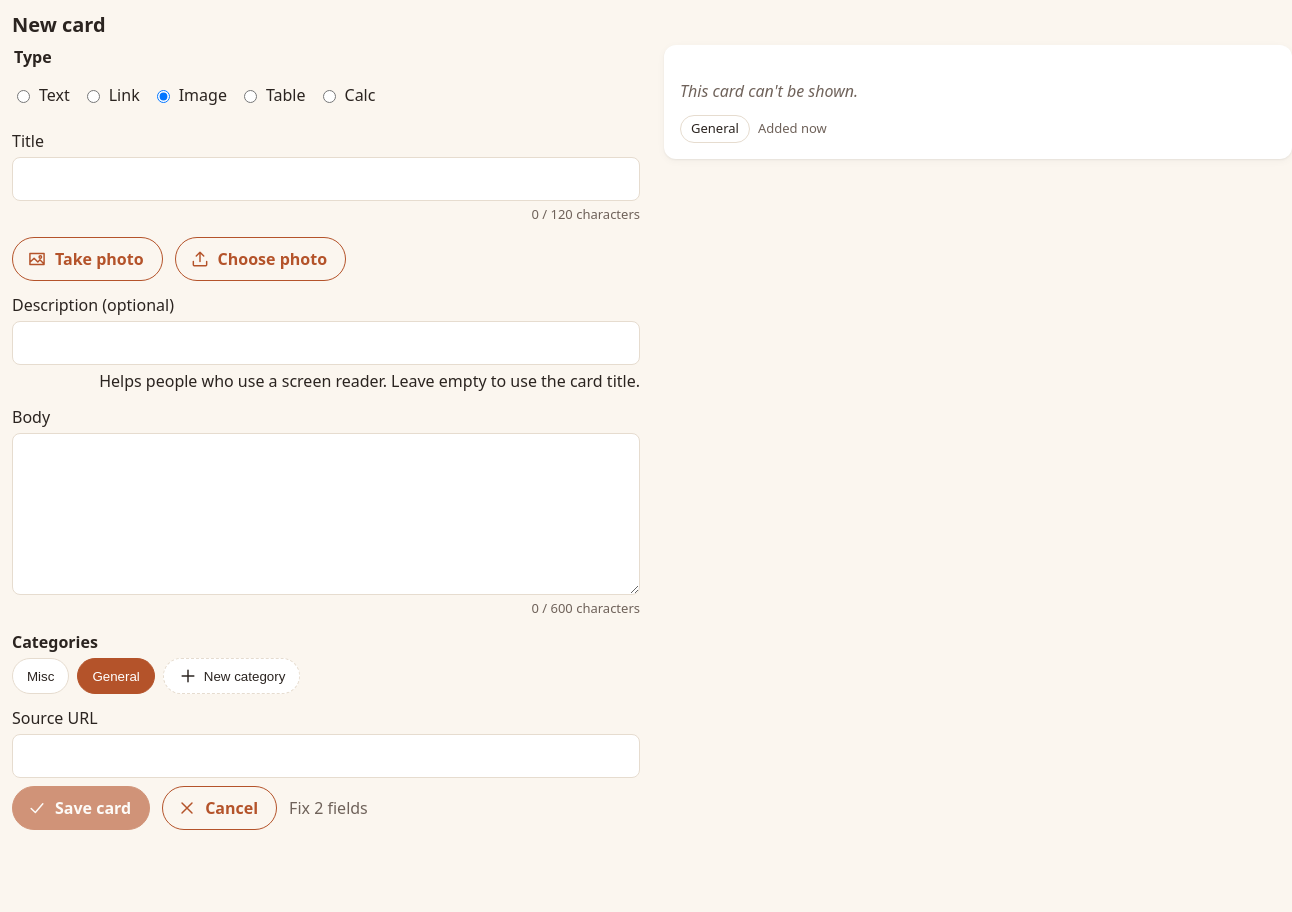
CardEditor: image cards (D133, FR-015) › blocks Save on an image card without a photo; the description is optional (D206)
This screenshot has width=1292, height=912.
In the field labelled "Title": (326, 179) [12,157,640,201], type "Bread"
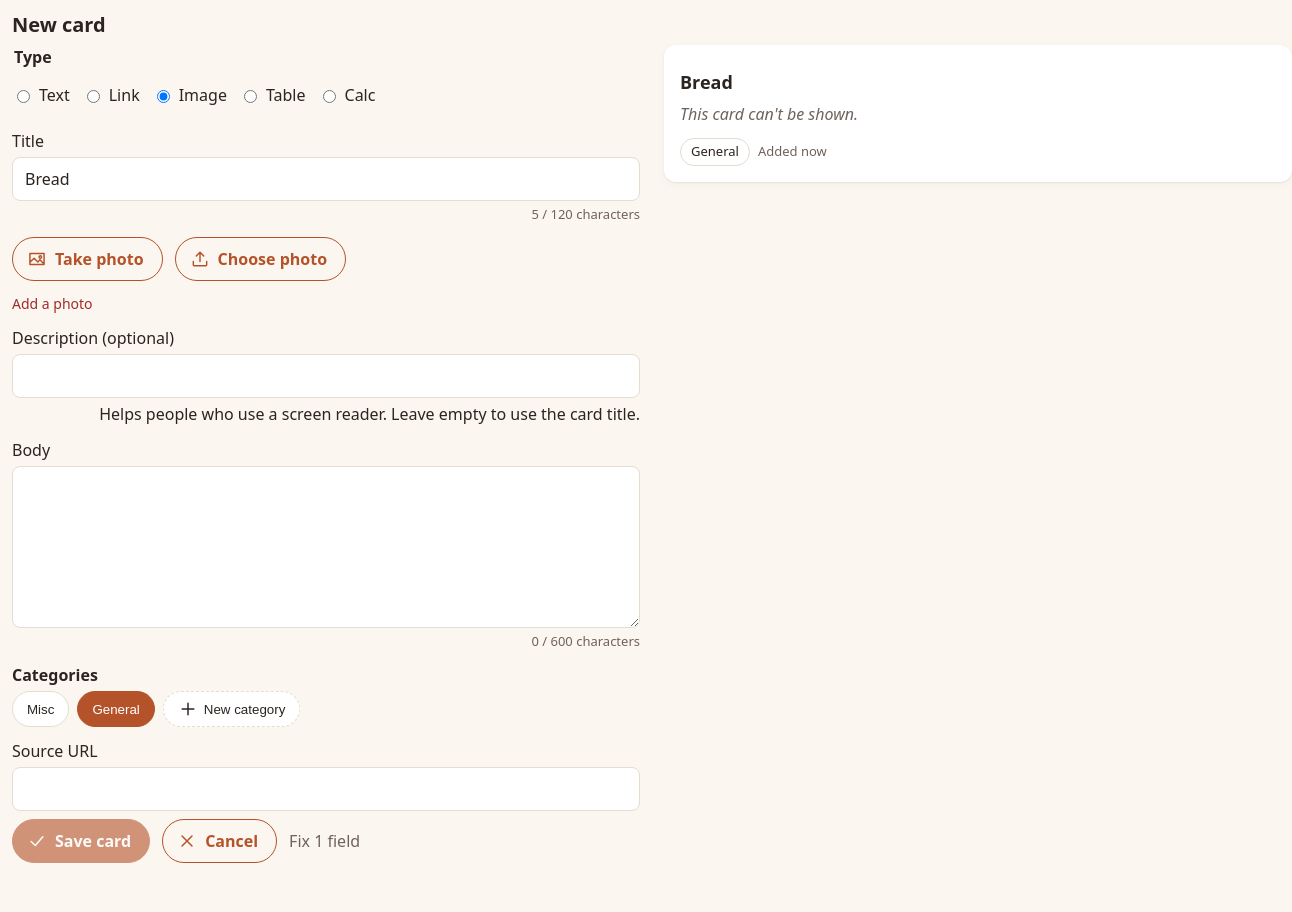
Check: the file field labelled "Take photo" is shown, box [72,236,98,280]
Check: the text "Fix 1 field" is shown, box [289,829,360,853]
Check: the text "Add a photo" is shown, box [12,294,93,312]
